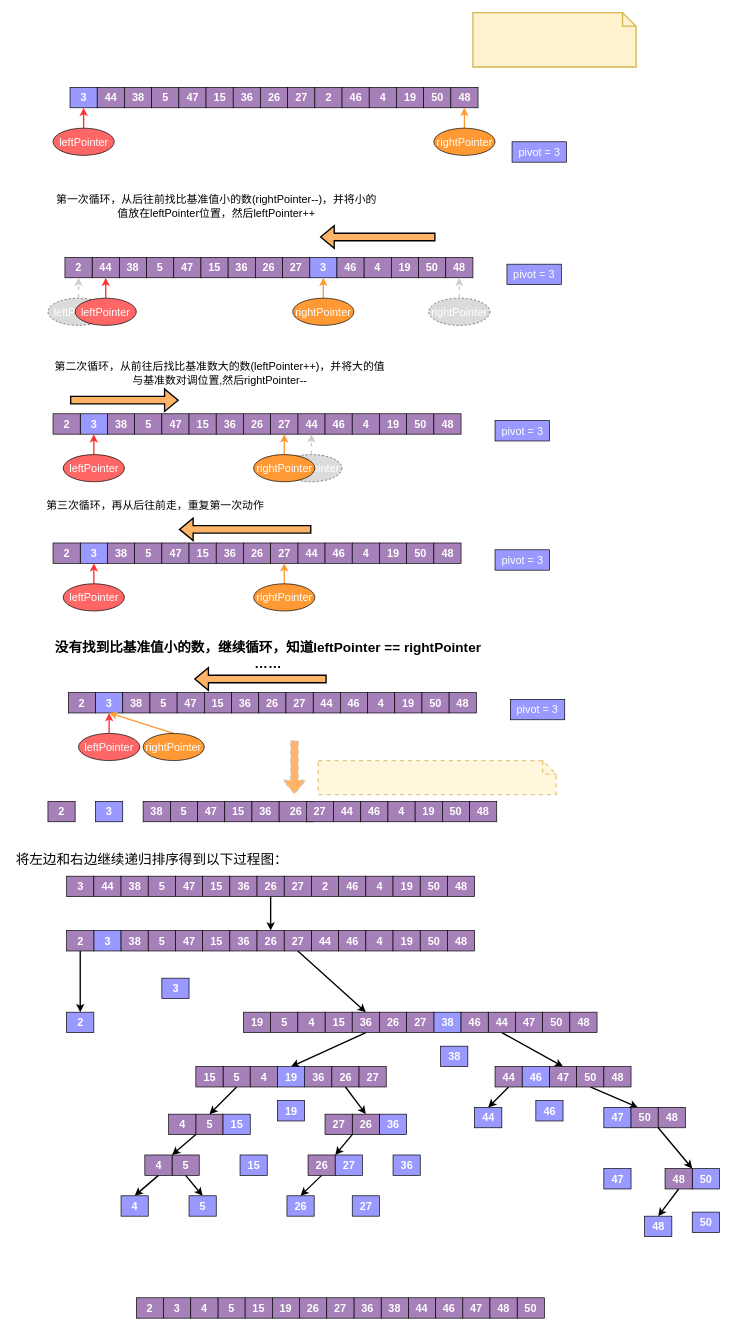
The diagram is 732 pixels wide and 1330 high, and some of its shapes have lost their labels. Each missing label, with the box of its shape:
定义一个基数：pivot 一个查询左边的元素的指针leftPointer 一个查询右边的元素指针rightPointer: (472, 12, 636, 67)
这里基准值将数组分成三部分，左，基准数，右 左边的是比基准值小的数，右边的是比基准数大的值: (317, 760, 557, 795)
